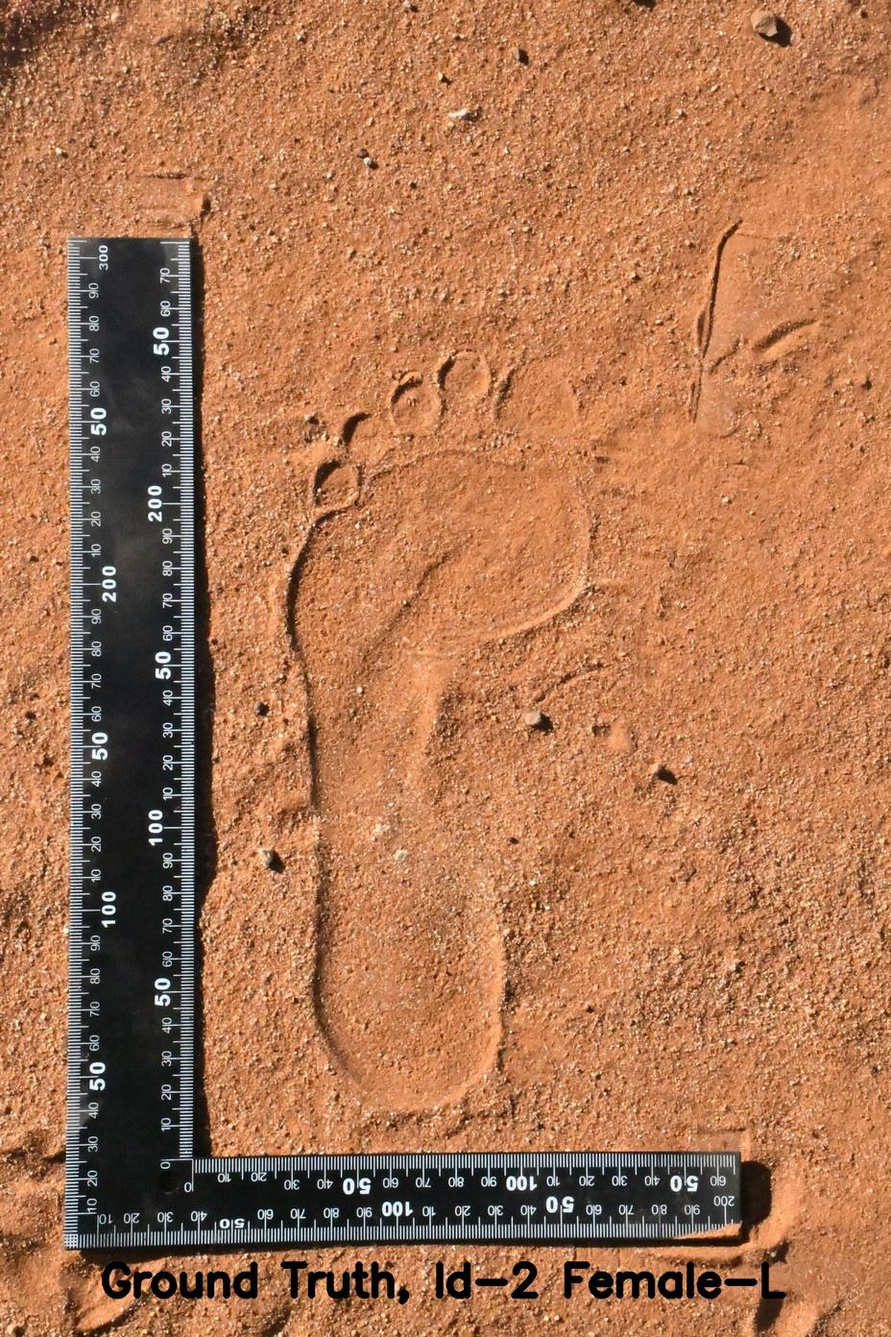human_footprint: (250, 330, 641, 1136)
